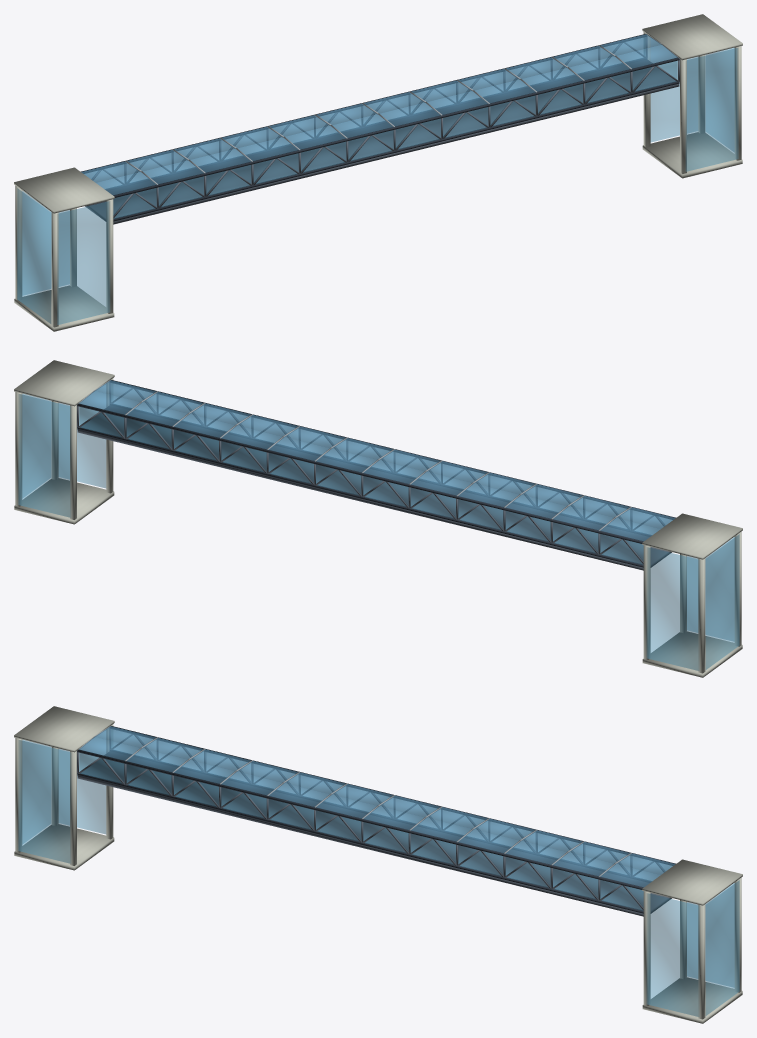
Rendered from RAIL08_hlod.glb.
3 renders of one model, top to bottom at view 1: azimuth 30°, elevation 25°; view 2: azimuth 150°, elevation 25°; view 3: azimuth 330°, elevation 25°, orthographic.
Parts seen in each view (by area): view 1: Facade__glass, Structure__steel, Roof__glass_roof, Access_Tower__concrete, Structure__frame, Roof__steel_light; view 2: Facade__glass, Structure__steel, Roof__glass_roof, Access_Tower__concrete, Structure__frame, Roof__steel_light; view 3: Facade__glass, Structure__steel, Roof__glass_roof, Access_Tower__concrete, Structure__frame, Roof__steel_light.
Boxes of the visible parts, <box> form: Facade__glass: <box>17,38,738,324</box>; Structure__steel: <box>85,37,679,224</box>; Roof__glass_roof: <box>81,34,677,195</box>; Access_Tower__concrete: <box>14,14,742,331</box>; Structure__frame: <box>81,34,679,221</box>; Roof__steel_light: <box>125,34,678,184</box>; Facade__glass: <box>18,384,739,670</box>; Structure__steel: <box>77,383,671,570</box>; Roof__glass_roof: <box>79,380,675,541</box>; Access_Tower__concrete: <box>14,360,742,677</box>; Structure__frame: <box>77,380,675,567</box>; Roof__steel_light: <box>78,380,631,530</box>; Facade__glass: <box>18,730,739,1016</box>; Structure__steel: <box>77,729,671,916</box>; Roof__glass_roof: <box>79,726,675,887</box>; Access_Tower__concrete: <box>14,706,742,1023</box>; Structure__frame: <box>77,726,675,913</box>; Roof__steel_light: <box>78,726,631,876</box>.
Bounding box in the file's own units: 72.72 × 12.16 × 7.3.
6 materials, 6 textured.
